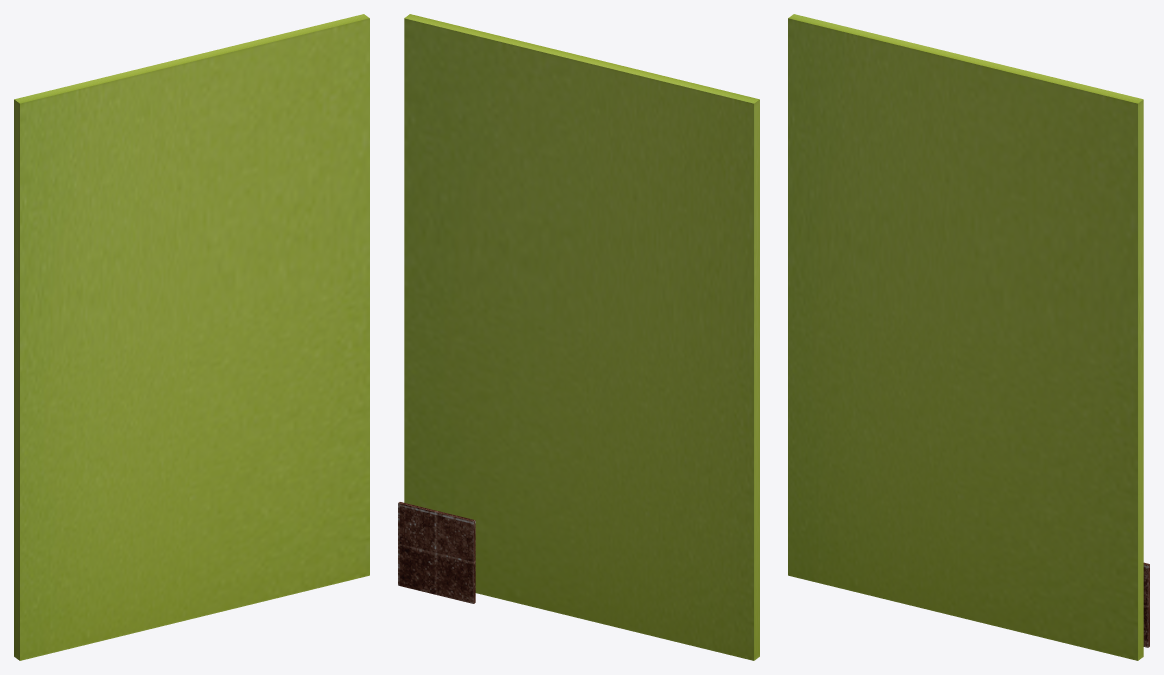
Rendered from bath wall with tail.FBX.
The picture shows the model from 3 angles, left to right: view 1: azimuth 30°, elevation 25°; view 2: azimuth 150°, elevation 25°; view 3: azimuth 330°, elevation 25°; orthographic projection.
Visible parts, largest first — view 1: Box001; view 2: Box001, Box002; view 3: Box001, Box002.
Part boxes in pixels (left/top/right/bottom): Box001: left=14, top=14, right=369, bottom=660; Box001: left=404, top=14, right=759, bottom=660; Box002: left=398, top=502, right=475, bottom=603; Box001: left=788, top=14, right=1143, bottom=660; Box002: left=1143, top=562, right=1149, bottom=647.
Bounding box in the file's own units: 96.76 × 147 × 8.46.
2 materials, 2 textured.
